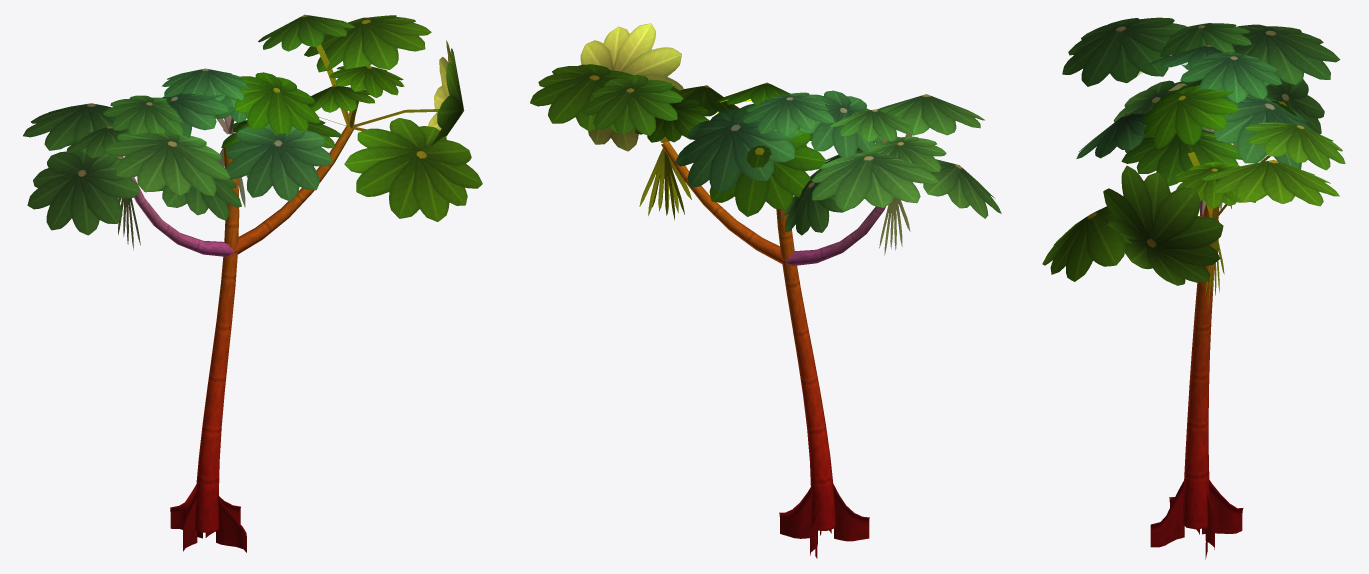
The model's file is yagrumo_joven.glb.
3 views of the same model, side by side, from view 1: azimuth 30°, elevation 25°; view 2: azimuth 150°, elevation 25°; view 3: azimuth 270°, elevation 25° (orthographic). The views are drawn at different scales.
Visible parts, largest first — view 1: yagrumo; view 2: yagrumo; view 3: yagrumo.
Boxes of the visible parts, x1=… form: yagrumo: x1=23, y1=14, x2=482, y2=552; yagrumo: x1=530, y1=23, x2=1001, y2=558; yagrumo: x1=1042, y1=17, x2=1345, y2=559.
Bounding box in the file's own units: 3.77 × 3.78 × 2.22.
2 materials, 2 textured.
